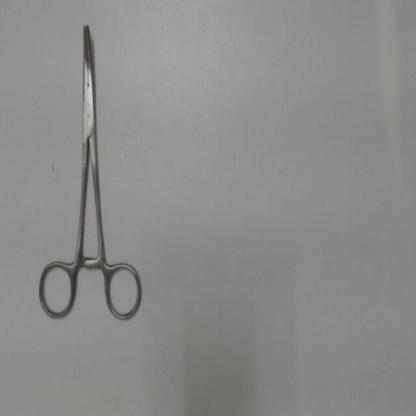Crile Artery Forceps: (33, 18, 147, 324)
